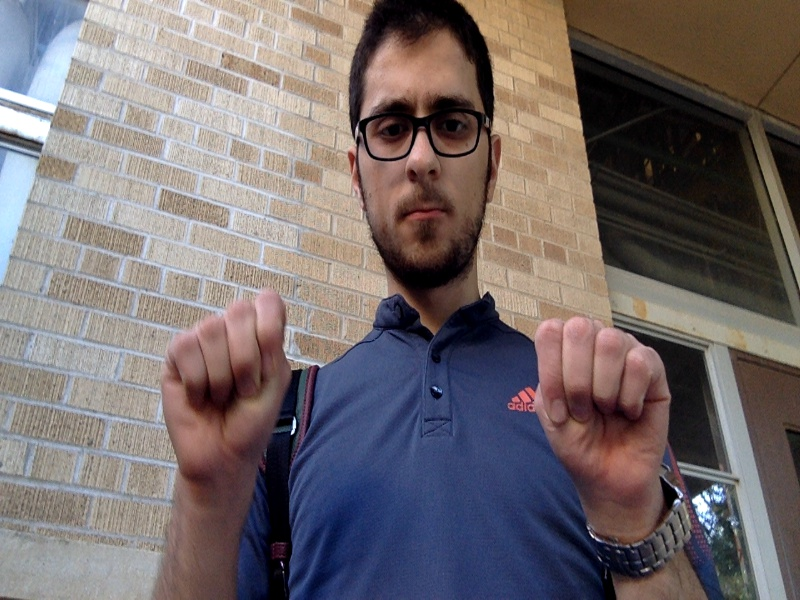0-hand: (162, 291, 286, 479), (533, 318, 668, 488)
